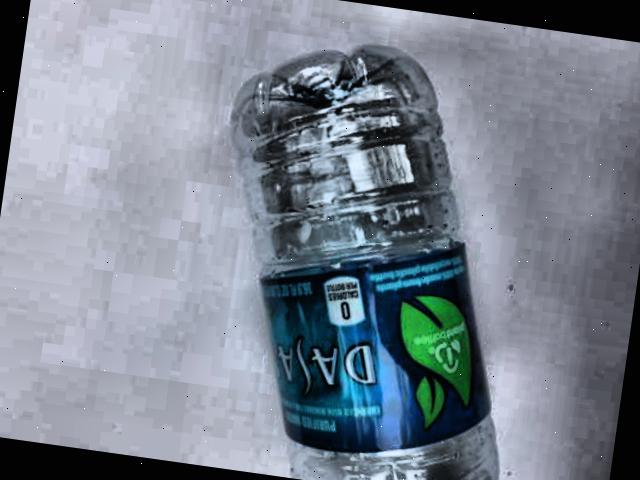Bottles: (167, 11, 580, 480)
